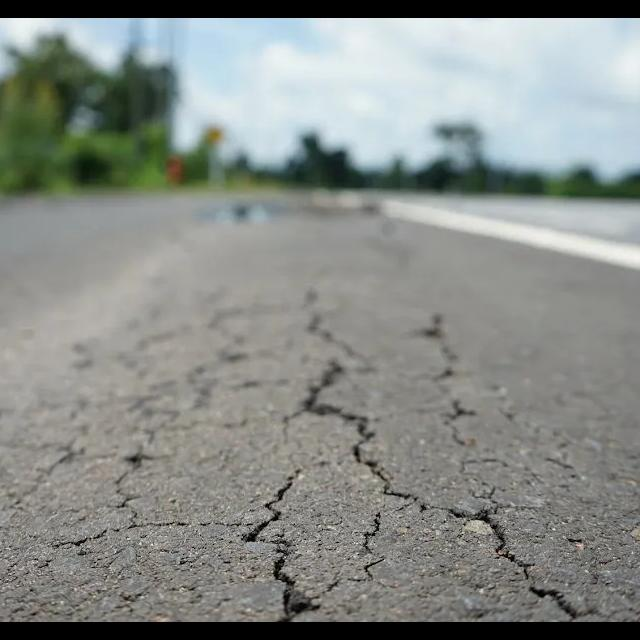retak_kulit_buaya: (81, 279, 581, 622)
